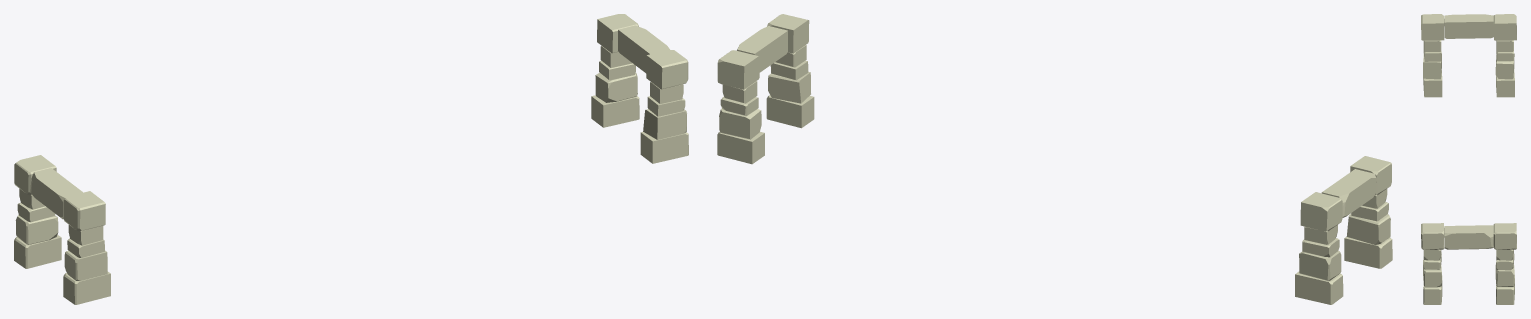
The model's file is ATDoorway2.fbx.
3 renders of one model, left to right at view 1: azimuth 30°, elevation 25°; view 2: azimuth 150°, elevation 25°; view 3: azimuth 270°, elevation 25°, orthographic. The views are drawn at different scales.
Parts seen in each view (by area): view 1: Cube.073, Cube.079, Cube.074, Cube.069, Cube.071, Cube.076, Cube.078, Cube.072, Cube.070, Cube.075, Cube.077; view 2: Cube.079, Cube.078, Cube.069, Cube.074, Cube.071, Cube.076, Cube.073, Cube.075, Cube.077, Cube.070, Cube.072; view 3: Cube.079, Cube.078, Cube.073, Cube.069, Cube.074, Cube.071, Cube.076, Cube.072, Cube.077, Cube.070, Cube.075.
Boxes of the visible parts, bbox=[...] form: Cube.073: bbox=[63, 50, 688, 231]; Cube.079: bbox=[30, 25, 669, 219]; Cube.074: bbox=[14, 95, 639, 268]; Cube.069: bbox=[63, 132, 688, 304]; Cube.071: bbox=[64, 109, 686, 280]; Cube.076: bbox=[15, 72, 637, 244]; Cube.078: bbox=[14, 14, 638, 195]; Cube.072: bbox=[68, 82, 683, 245]; Cube.070: bbox=[67, 96, 685, 257]; Cube.075: bbox=[17, 60, 635, 222]; Cube.077: bbox=[19, 46, 632, 209]; Cube.079: bbox=[737, 26, 1376, 217]; Cube.078: bbox=[717, 50, 1342, 231]; Cube.069: bbox=[766, 95, 1392, 268]; Cube.074: bbox=[717, 131, 1343, 304]; Cube.071: bbox=[768, 71, 1390, 244]; Cube.076: bbox=[719, 108, 1341, 281]; Cube.073: bbox=[767, 14, 1391, 195]; Cube.075: bbox=[720, 96, 1339, 257]; Cube.077: bbox=[722, 81, 1337, 244]; Cube.070: bbox=[770, 60, 1388, 221]; Cube.072: bbox=[775, 45, 1387, 208]; Cube.079: bbox=[1444, 14, 1493, 249]; Cube.078: bbox=[1493, 14, 1516, 249]; Cube.073: bbox=[1421, 14, 1444, 249]; Cube.069: bbox=[1423, 70, 1442, 304]; Cube.074: bbox=[1496, 69, 1514, 304]; Cube.071: bbox=[1423, 53, 1441, 287]; Cube.076: bbox=[1495, 54, 1514, 286]; Cube.072: bbox=[1423, 40, 1441, 260]; Cube.077: bbox=[1496, 40, 1513, 260]; Cube.070: bbox=[1423, 46, 1441, 269]; Cube.075: bbox=[1496, 47, 1514, 270].
Size of the model in its own units: 5724 by 864 by 1051.
